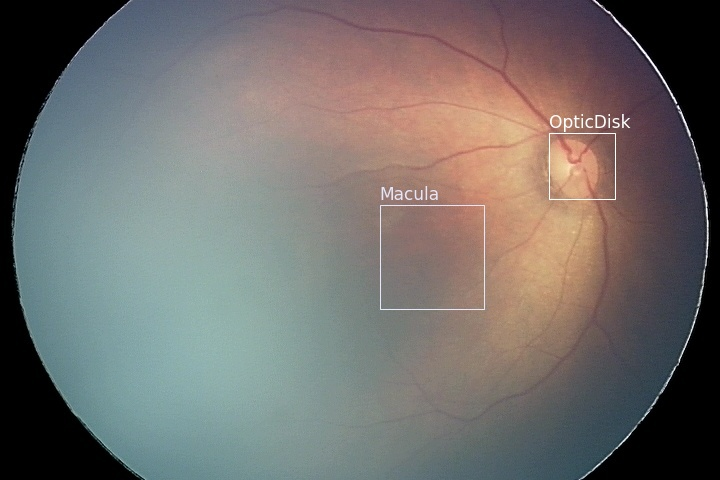Macula: (379, 204, 483, 308)
OpticDisk: (548, 132, 614, 198)
